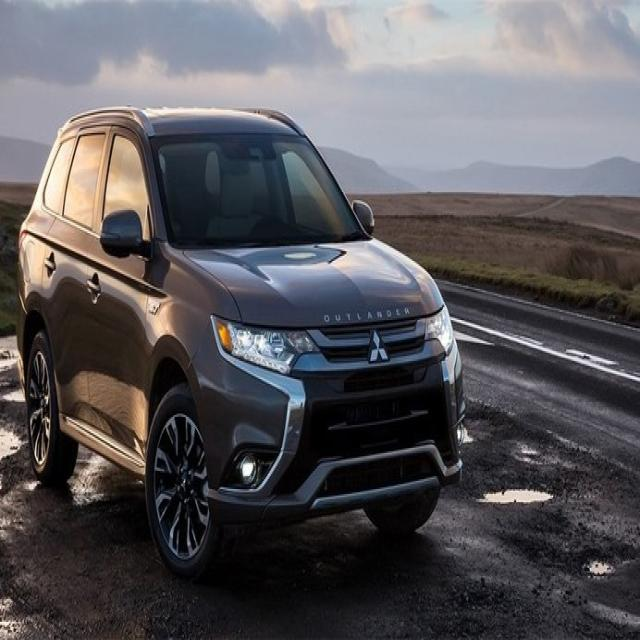light_vehicle: (15, 105, 467, 579)
